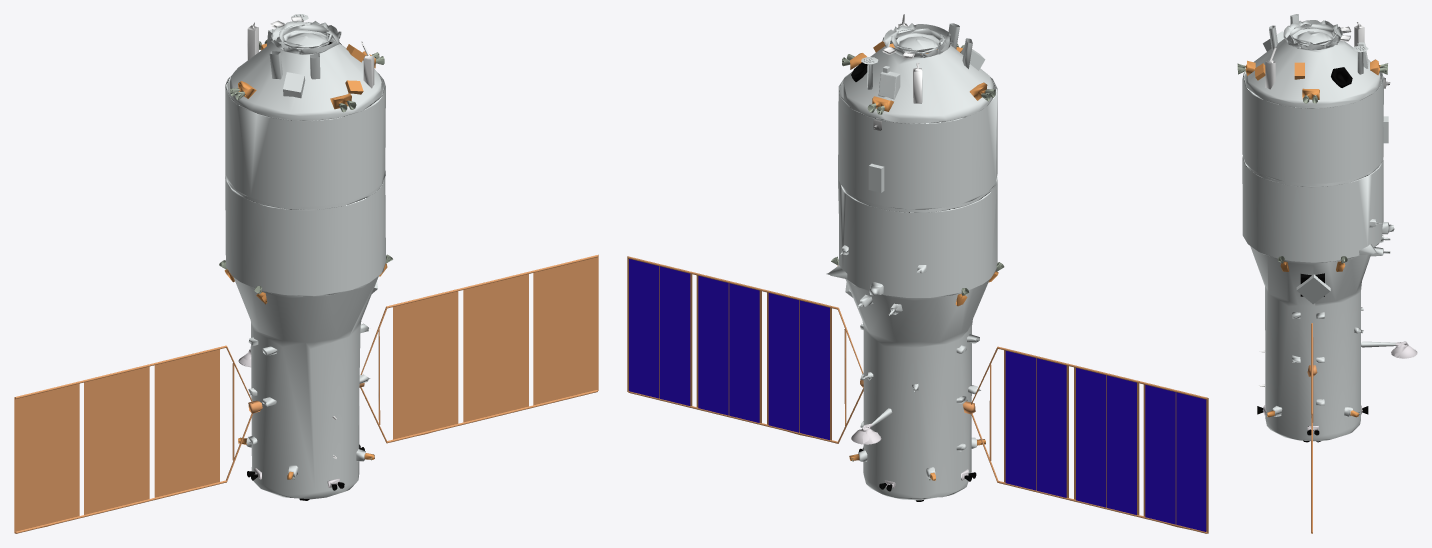
Rendered from tiangong-tianzhou.glb.
The picture shows the model from 3 angles, left to right: view 1: azimuth 30°, elevation 25°; view 2: azimuth 150°, elevation 25°; view 3: azimuth 270°, elevation 25°; orthographic projection. The views are drawn at different scales.
Visible parts, largest first — view 1: tianzhou; view 2: tianzhou; view 3: tianzhou.
Part boxes in pixels (x1,y1,x2,y2): tianzhou: (14,14,598,533); tianzhou: (627,14,1208,533); tianzhou: (1237,14,1417,533).
Bounding box in the file's own units: 14.05 × 10.6 × 4.26.
Materials: 1 (1 with a texture image).
